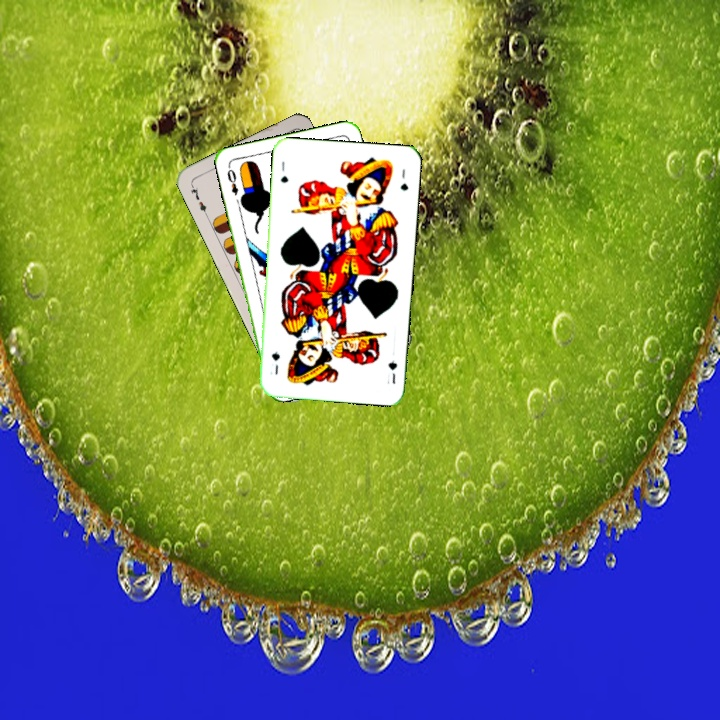E7: (187, 181, 210, 219)
EO: (223, 162, 241, 198)
GU: (384, 356, 400, 386), (276, 157, 290, 185)
